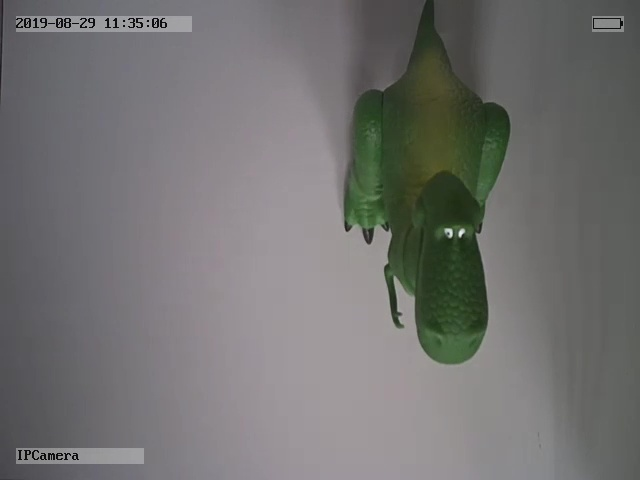rex: (341, 2, 511, 367)
